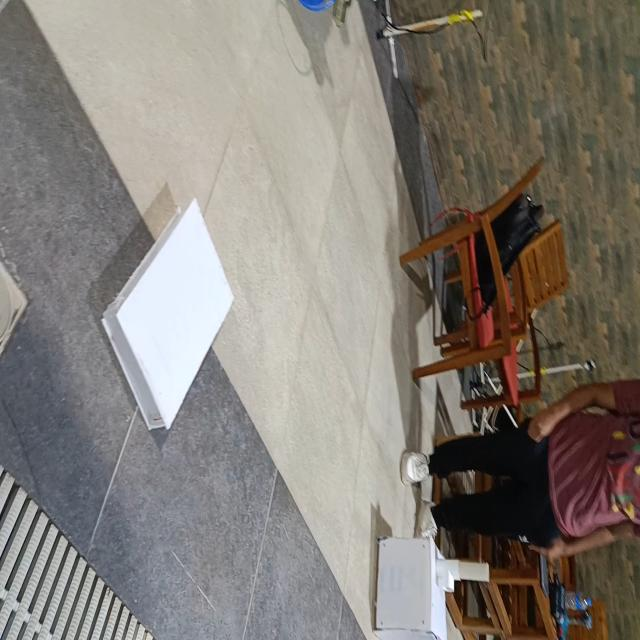Cube: (367, 529, 454, 640)
Cuboid: (101, 196, 234, 432)
